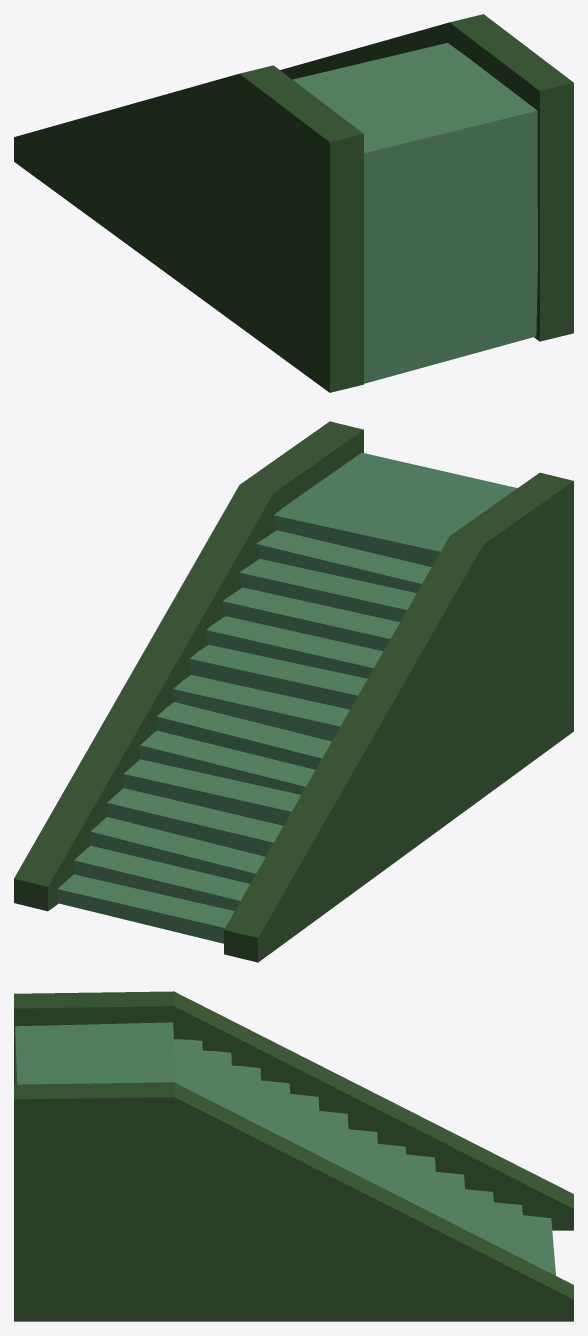
The model's file is Swamp_Structure_Stairs.fbx.
3 renders of one model, top to bottom at view 1: azimuth 30°, elevation 25°; view 2: azimuth 150°, elevation 25°; view 3: azimuth 270°, elevation 25°, orthographic. The views are drawn at different scales.
Visible parts, largest first — view 1: Swamp Structure Stairs; view 2: Swamp Structure Stairs; view 3: Swamp Structure Stairs.
Boxes of the visible parts, <box> form: Swamp Structure Stairs: <box>14,14,573,392</box>; Swamp Structure Stairs: <box>14,421,573,962</box>; Swamp Structure Stairs: <box>14,991,573,1321</box>.
Size of the model in its own units: 444 by 443 by 994.
